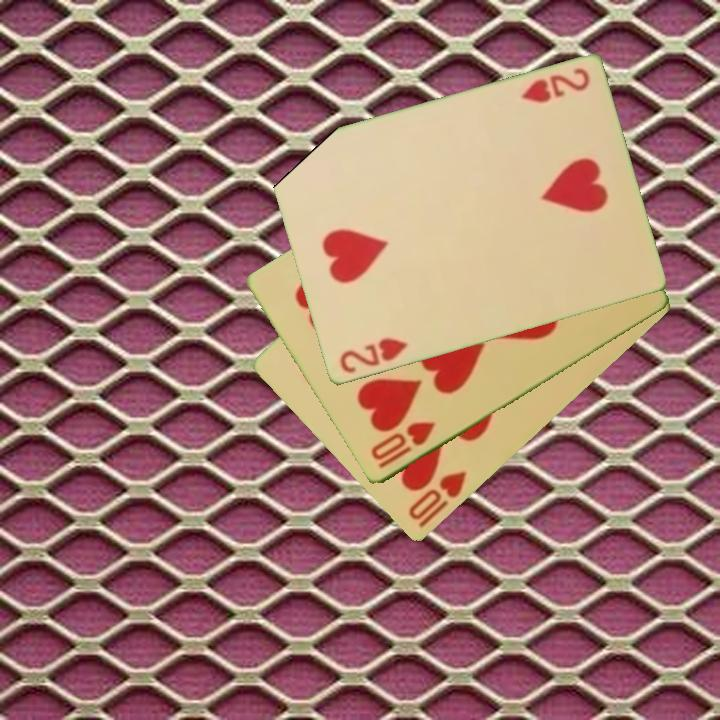10h: (404, 468, 470, 532), (367, 418, 439, 472)
2h: (335, 334, 411, 377), (517, 65, 593, 107)
